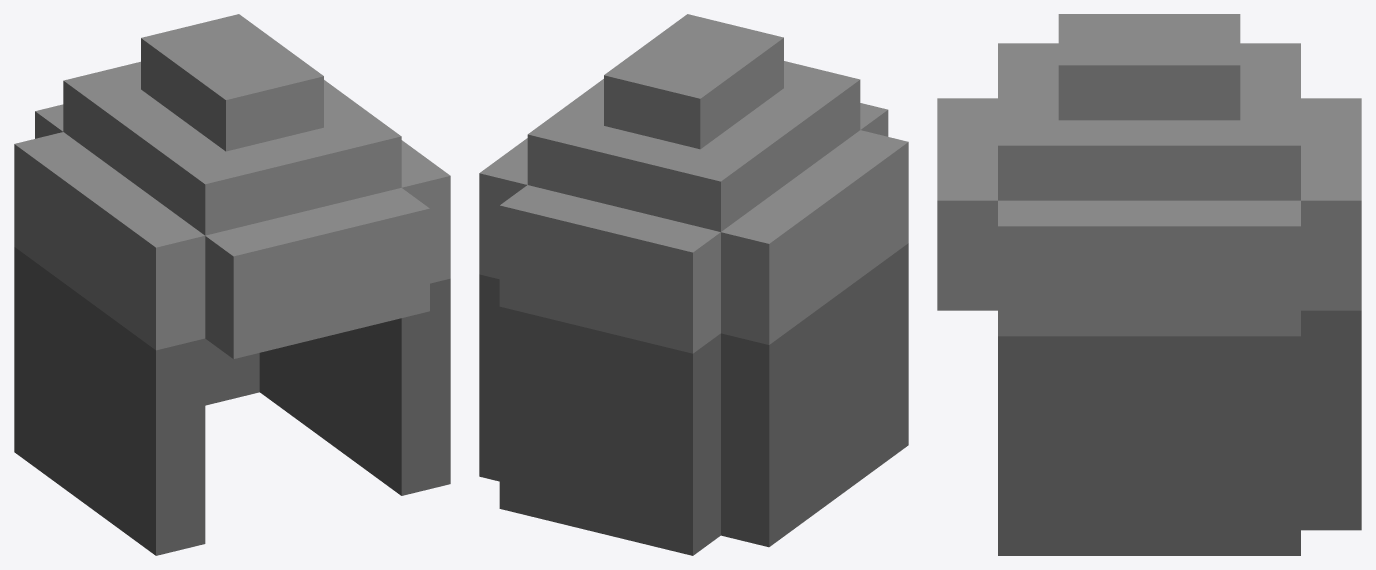
The model's file is humanoid-168-helm_med_1a_sh.obj.
The picture shows the model from 3 angles, left to right: view 1: azimuth 30°, elevation 25°; view 2: azimuth 150°, elevation 25°; view 3: azimuth 270°, elevation 25°; orthographic projection. The views are drawn at different scales.
Parts seen in each view (by area): view 1: helm_med_1a_sh; view 2: helm_med_1a_sh; view 3: helm_med_1a_sh.
Boxes of the visible parts, bbox=[...] form: helm_med_1a_sh: bbox=[14, 14, 450, 555]; helm_med_1a_sh: bbox=[479, 14, 908, 555]; helm_med_1a_sh: bbox=[937, 14, 1361, 555].
Size of the model in its own units: 0.6 by 0.8 by 0.7.
Materials: 1 (1 with a texture image).
